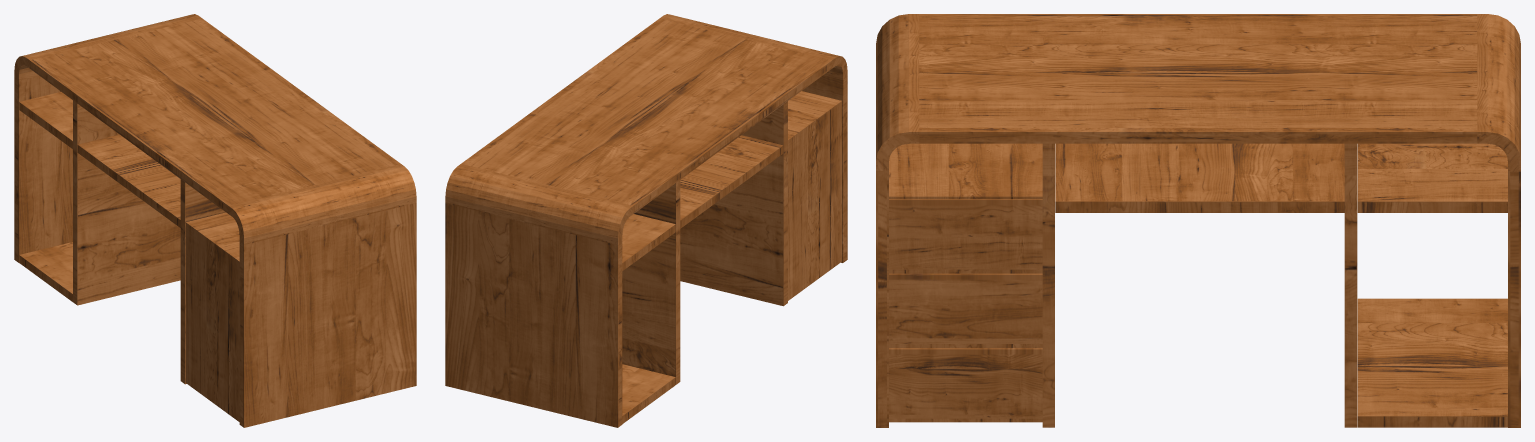
The model's file is wooden_desk.glb.
The picture shows the model from 3 angles, left to right: view 1: azimuth 30°, elevation 25°; view 2: azimuth 150°, elevation 25°; view 3: azimuth 270°, elevation 25°; orthographic projection. The views are drawn at different scales.
Visible parts, largest first — view 1: desk_LP_new_3, wood plates_LP_4, closet_LP_2; view 2: desk_LP_new_3, wood plates_LP_4, closet_LP_2; view 3: desk_LP_new_3, wood plates_LP_4, closet_LP_2.
Boxes of the visible parts, left/top/right/bottom form: desk_LP_new_3: left=14, top=14, right=416, bottom=427; wood plates_LP_4: left=19, top=92, right=225, bottom=384; closet_LP_2: left=185, top=212, right=239, bottom=421; desk_LP_new_3: left=445, top=14, right=847, bottom=427; wood plates_LP_4: left=622, top=101, right=787, bottom=423; closet_LP_2: left=788, top=91, right=841, bottom=300; desk_LP_new_3: left=876, top=14, right=1520, bottom=427; wood plates_LP_4: left=1042, top=143, right=1507, bottom=427; closet_LP_2: left=889, top=143, right=1042, bottom=422.
Bounding box in the file's own units: 0.6504 × 0.7596 × 1.5.
3 materials, 3 textured.
